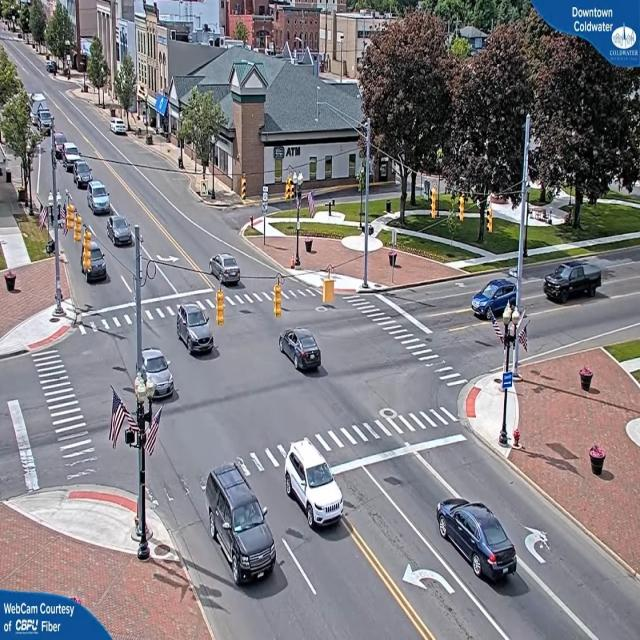car: (203, 463, 279, 587), (434, 501, 519, 586), (285, 441, 346, 533), (545, 262, 604, 306), (176, 304, 218, 356), (279, 328, 323, 376), (473, 278, 519, 323), (139, 349, 176, 401), (209, 254, 242, 286), (108, 215, 136, 247), (89, 180, 111, 217), (74, 163, 92, 190), (111, 119, 128, 136)
